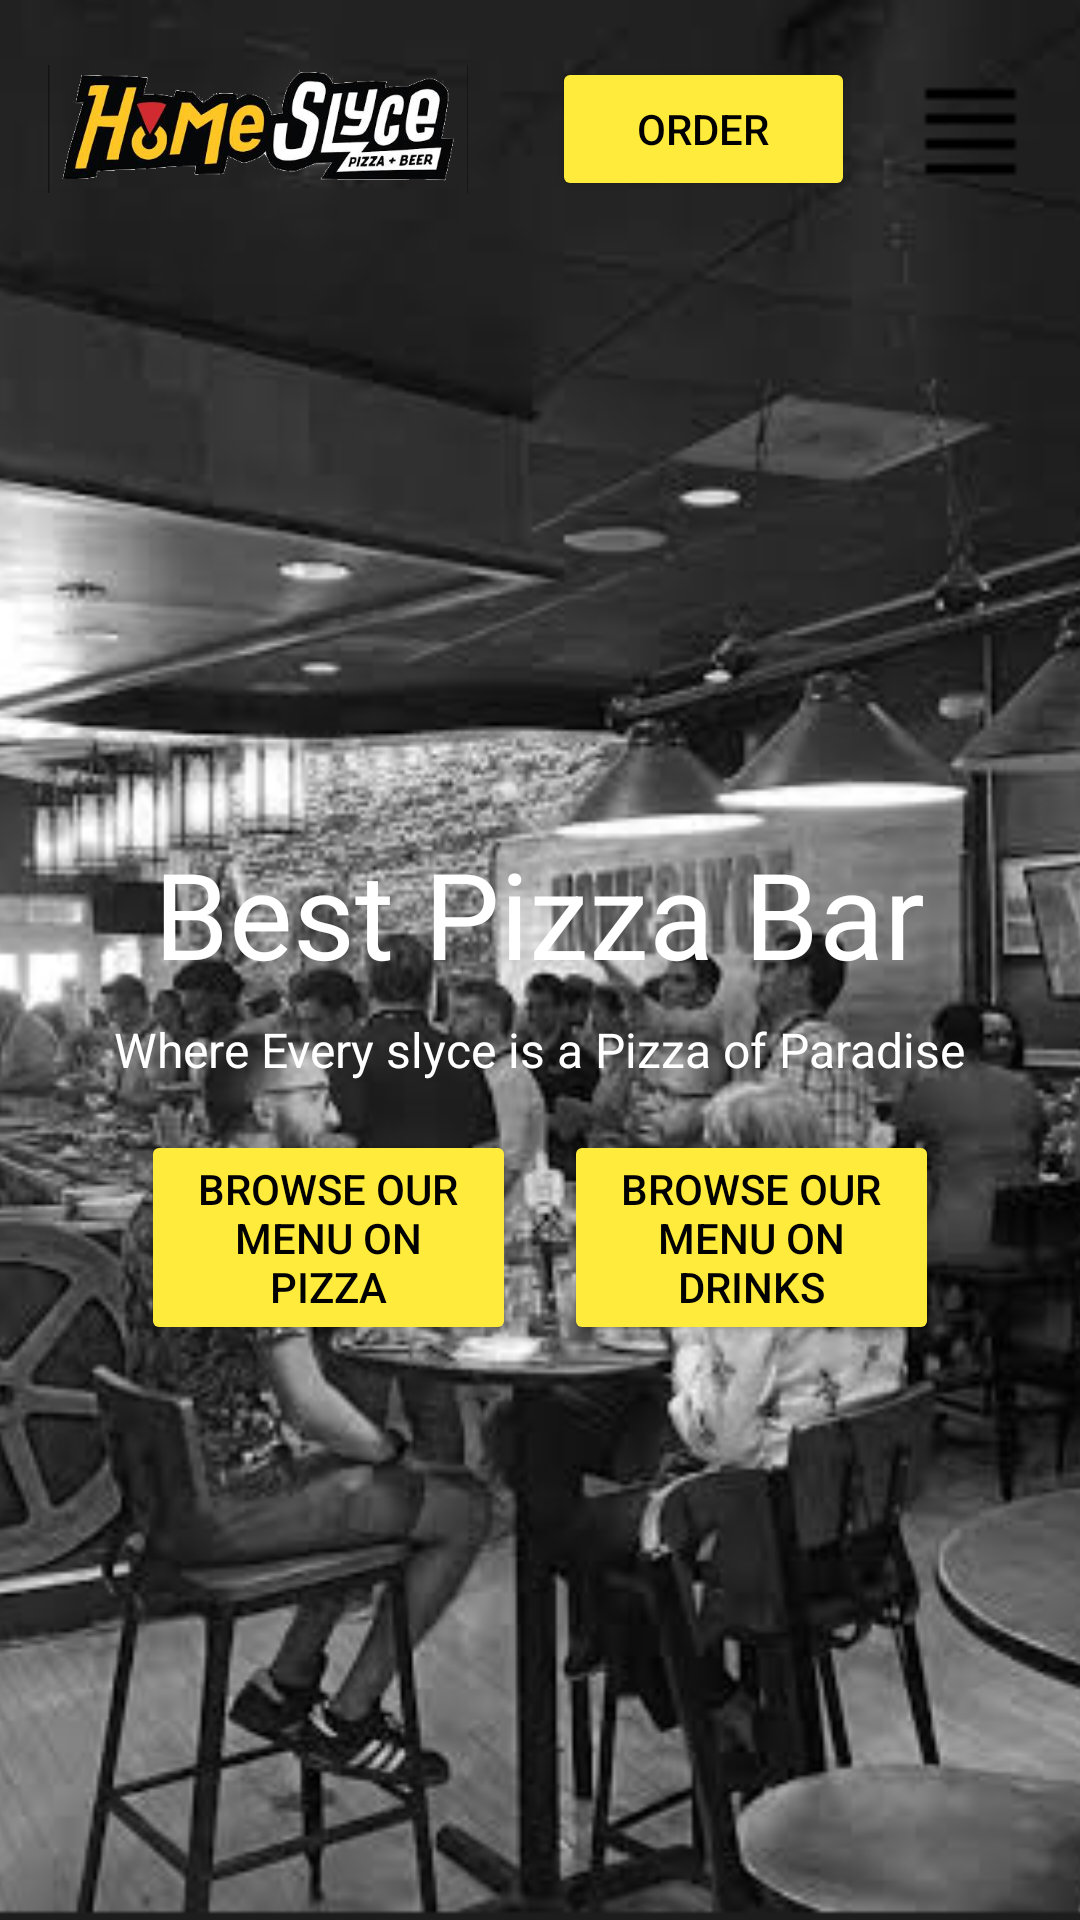

Point at icon controls on the screen. Image size 1080*1920, points as (x,y).
Menu Button: (970,131)
